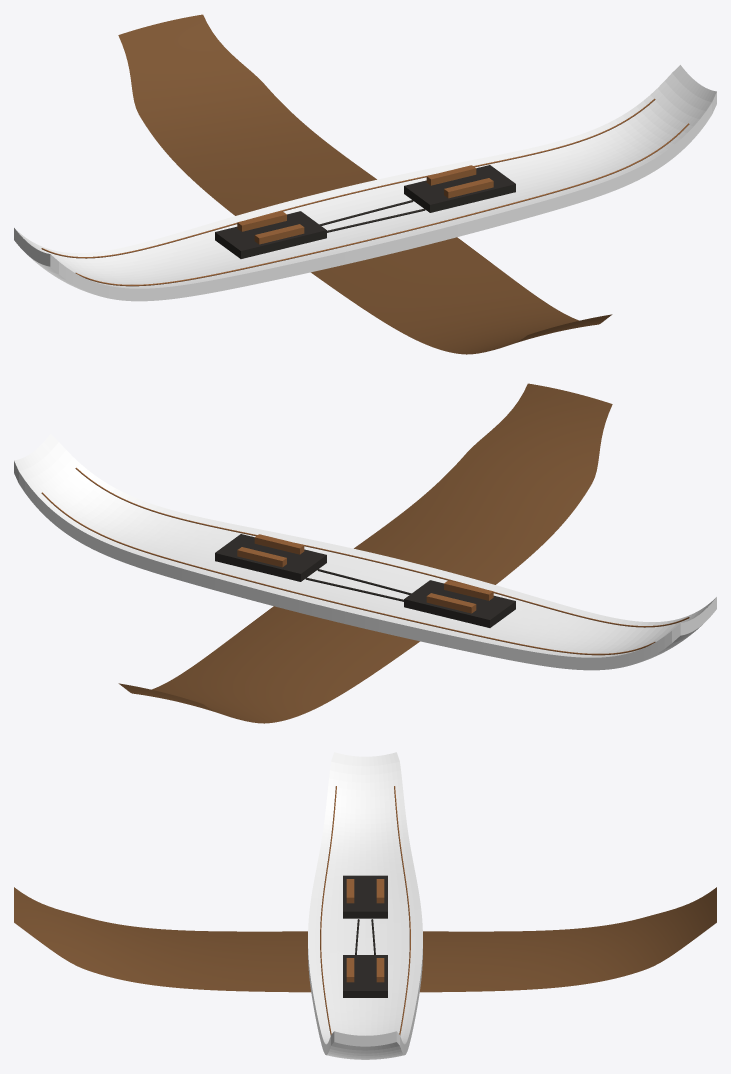
File: prancha.glb
The picture shows the model from 3 angles, top to bottom: view 1: azimuth 30°, elevation 25°; view 2: azimuth 150°, elevation 25°; view 3: azimuth 270°, elevation 25°; orthographic projection. The views are drawn at different scales.
Visible parts, largest first — view 1: Prancha | Camada inferior, Snowboard | Madeira Escura, Fixação traseira | Base, Fixação dianteira | Base, Filete lateral, Filete lateral.001, Fixação dianteira | Tira, Fixação traseira | Tira.001, Fixação dianteira | Tira.001, Fixação traseira | Tira; view 2: Prancha | Camada inferior, Snowboard | Madeira Escura, Fixação traseira | Base, Fixação dianteira | Base, Filete lateral.001, Filete lateral, Fixação dianteira | Tira.001, Fixação traseira | Tira, Fixação dianteira | Tira, Fixação traseira | Tira.001; view 3: Prancha | Camada inferior, Snowboard | Madeira Escura, Fixação dianteira | Base, Fixação traseira | Base.
Boxes of the visible parts, x1,y1,x2,y2 form: Prancha | Camada inferior: (118,14,612,354); Snowboard | Madeira Escura: (14,65,716,301); Fixação traseira | Base: (404,165,515,212); Fixação dianteira | Base: (215,211,326,258); Filete lateral: (75,123,689,286); Filete lateral.001: (41,98,655,258); Fixação dianteira | Tira: (254,224,304,244); Fixação traseira | Tira.001: (426,165,476,185); Fixação dianteira | Tira.001: (237,211,286,231); Fixação traseira | Tira: (444,178,493,198); Prancha | Camada inferior: (118,383,612,723); Snowboard | Madeira Escura: (14,434,716,670); Fixação traseira | Base: (215,534,326,581); Fixação dianteira | Base: (404,580,515,627); Filete lateral.001: (41,492,655,655); Filete lateral: (75,467,689,627); Fixação dianteira | Tira.001: (426,593,476,613); Fixação traseira | Tira: (254,534,304,554); Fixação dianteira | Tira: (444,580,493,600); Fixação traseira | Tira.001: (237,547,286,567); Prancha | Camada inferior: (14,887,716,992); Snowboard | Madeira Escura: (308,752,422,1059); Fixação dianteira | Base: (343,875,387,918); Fixação traseira | Base: (343,955,387,997).
Bounding box in the file's own units: 1.55 × 0.182 × 1.65.
